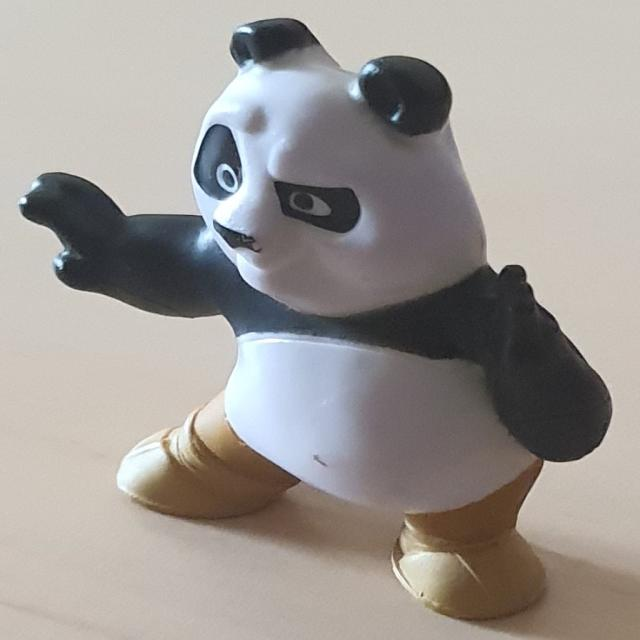Panda: (17, 16, 613, 622)
